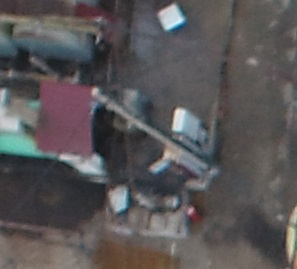opora: (88, 85, 213, 183)
